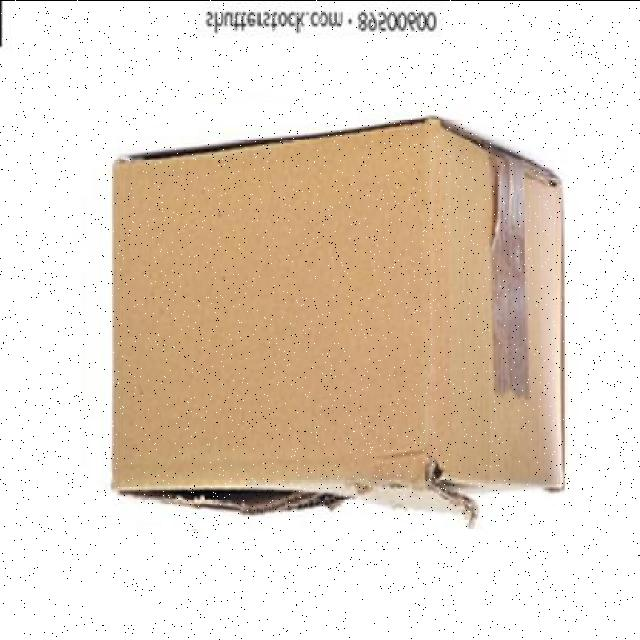defect: (91, 101, 575, 528)
